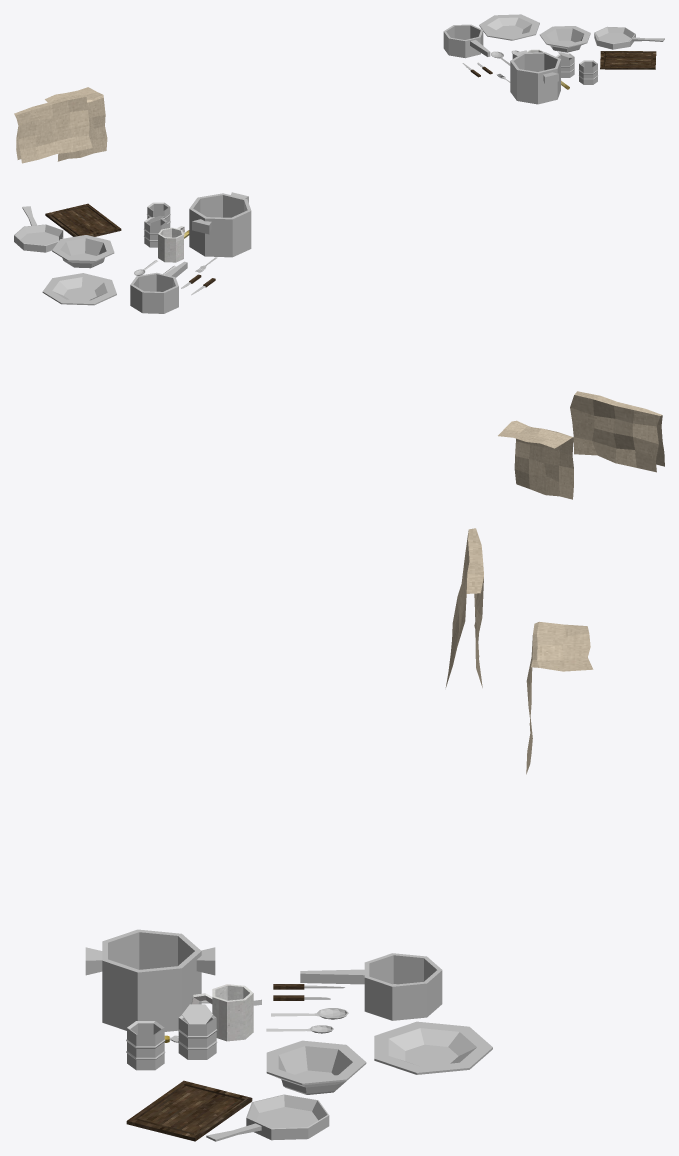
File: KitchenProps (1).fbx
The picture shows the model from 3 angles, top to bottom: view 1: azimuth 30°, elevation 25°; view 2: azimuth 150°, elevation 25°; view 3: azimuth 270°, elevation 25°; orthographic projection. The views are drawn at different scales.
Parts seen in each view (by area): view 1: Plane.017, Cylinder.016, Plane.016, Cylinder.014, Cylinder.008, Cube.038, Cylinder.009, Cylinder.017, Cylinder.015, Cylinder.012; view 2: Plane.017, Plane.016, Cylinder.016, Cylinder.014, Cylinder.008, Cube.038, Cylinder.009, Cylinder.017, Cylinder.010, Cylinder.012; view 3: Cylinder.016, Cylinder.014, Cylinder.008, Cube.038, Cylinder.009, Cylinder.017, Plane.016, Plane.017, Cylinder.010, Cylinder.012, Cylinder.015.
Boxes of the visible parts, x1=… form: Plane.017: x1=14, y1=94, x2=92, y2=163; Cylinder.016: x1=510, y1=50, x2=560, y2=104; Plane.016: x1=45, y1=87, x2=107, y2=161; Cylinder.014: x1=443, y1=24, x2=490, y2=58; Cylinder.008: x1=479, y1=14, x2=539, y2=40; Cube.038: x1=600, y1=51, x2=656, y2=69; Cylinder.009: x1=539, y1=26, x2=590, y2=52; Cylinder.017: x1=594, y1=26, x2=664, y2=49; Cylinder.015: x1=579, y1=60, x2=598, y2=84; Cylinder.012: x1=556, y1=52, x2=574, y2=77; Plane.017: x1=570, y1=391, x2=664, y2=472; Plane.016: x1=498, y1=420, x2=573, y2=499; Cylinder.016: x1=189, y1=192, x2=251, y2=257; Cylinder.014: x1=130, y1=261, x2=187, y2=313; Cylinder.008: x1=42, y1=273, x2=116, y2=305; Cube.038: x1=45, y1=203, x2=121, y2=236; Cylinder.009: x1=52, y1=235, x2=114, y2=268; Cylinder.017: x1=14, y1=206, x2=63, y2=252; Cylinder.010: x1=158, y1=226, x2=184, y2=262; Cylinder.012: x1=144, y1=215, x2=167, y2=247; Cylinder.016: x1=85, y1=929, x2=215, y2=1031; Cylinder.014: x1=300, y1=953, x2=442, y2=1020; Cylinder.008: x1=374, y1=1021, x2=492, y2=1074; Cube.038: x1=126, y1=1080, x2=252, y2=1141; Cylinder.009: x1=266, y1=1040, x2=366, y2=1094; Cylinder.017: x1=206, y1=1094, x2=329, y2=1141; Plane.016: x1=526, y1=621, x2=593, y2=774; Plane.017: x1=445, y1=528, x2=483, y2=687; Cylinder.010: x1=191, y1=984, x2=253, y2=1041; Cylinder.012: x1=178, y1=1004, x2=216, y2=1059; Cylinder.015: x1=126, y1=1021, x2=165, y2=1070.
Size of the model in its own units: 338 by 42.77 by 127.
